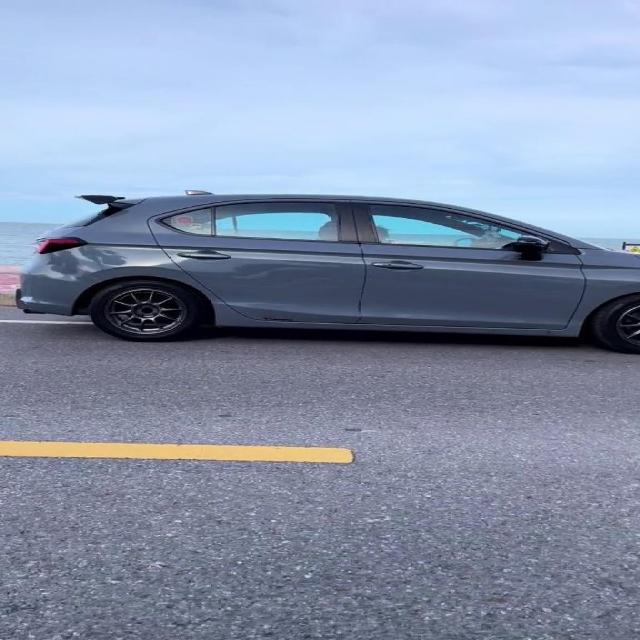Hatchback: (16, 191, 639, 354)
